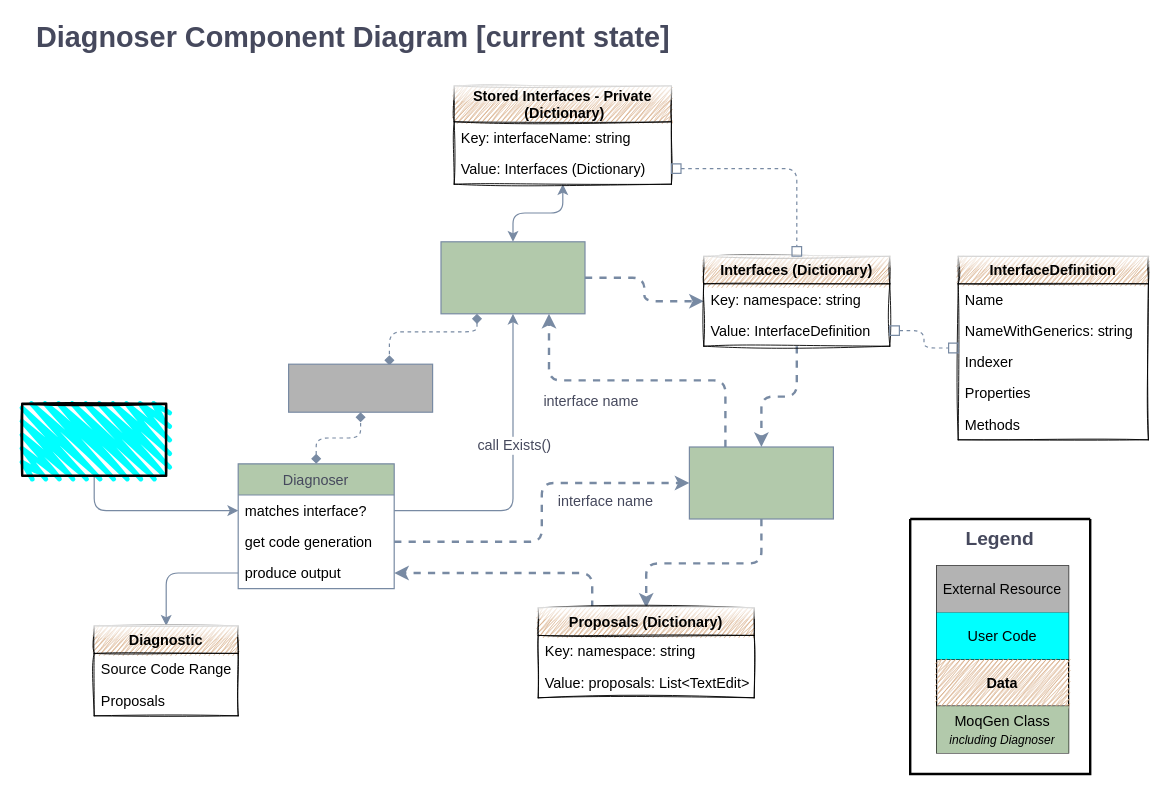
This 1169x796 diagram has some shape labels left out. Each missing label, with the centre of its shape:
"InterfaceStore" belongs at (512,277).
"MockText" belongs at (760,482).
"raw, syntactically broken code" belongs at (93,439).
"Rosyln" belongs at (360,387).
